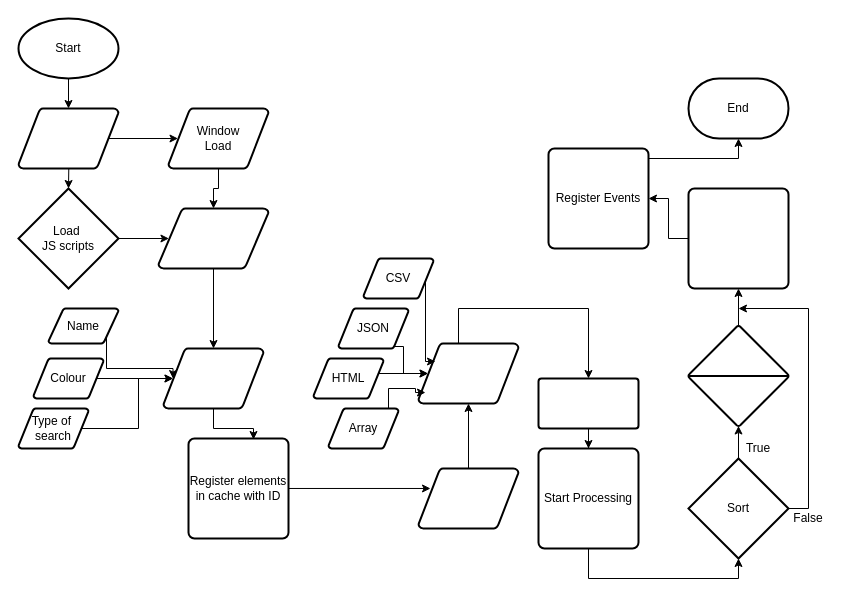
Some shapes in this 845 by 604 pixel diagram are drawn without their labels. Here are the shapes that lost their labels. From the top down, the box of each, then its label:
(17, 107, 119, 169): Script Load
(157, 207, 269, 269): Read JS-M elements from window
(687, 187, 789, 289): Read data
(162, 347, 264, 409): Get Options
(417, 342, 519, 404): Get Data
(537, 377, 639, 429): Store Data in Cache
(417, 467, 519, 529): Empty Element
